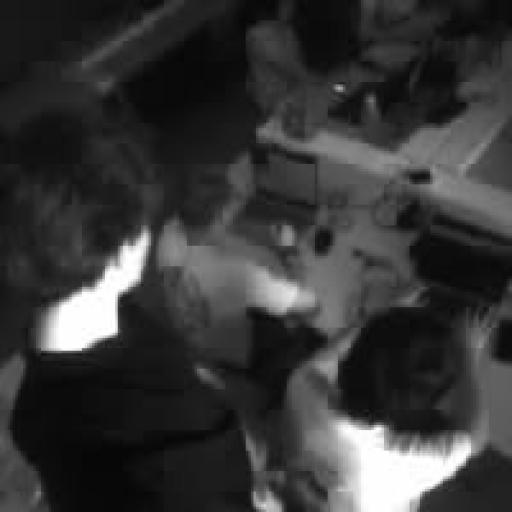human: (0, 105, 250, 511), (274, 308, 488, 511), (157, 167, 317, 368), (246, 0, 358, 115)
